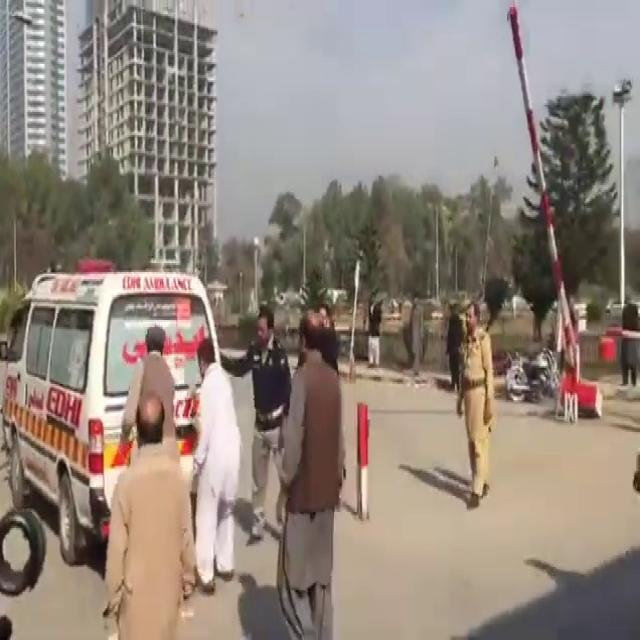ambulance: (0, 277, 231, 553)
